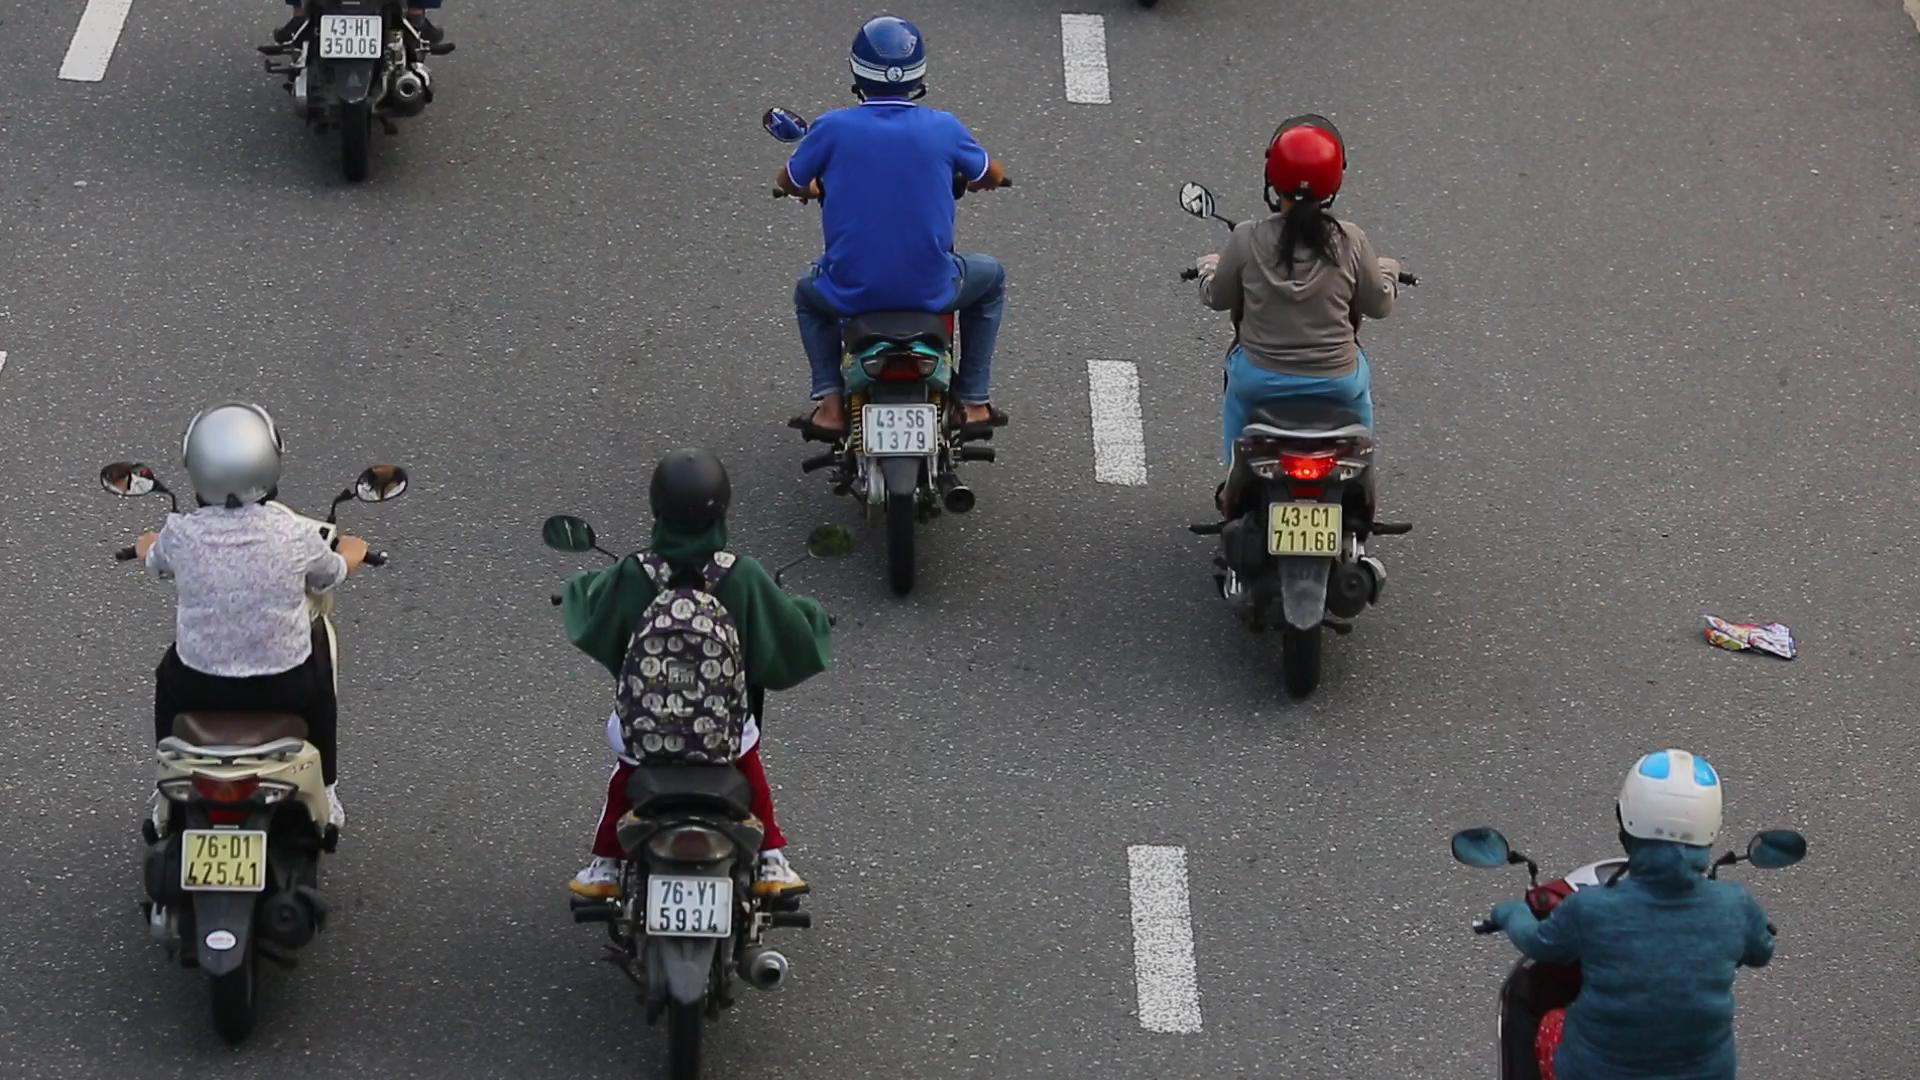motobike: (87, 380, 419, 1054), (534, 436, 852, 1075), (750, 1, 1031, 599), (1183, 99, 1418, 705)
